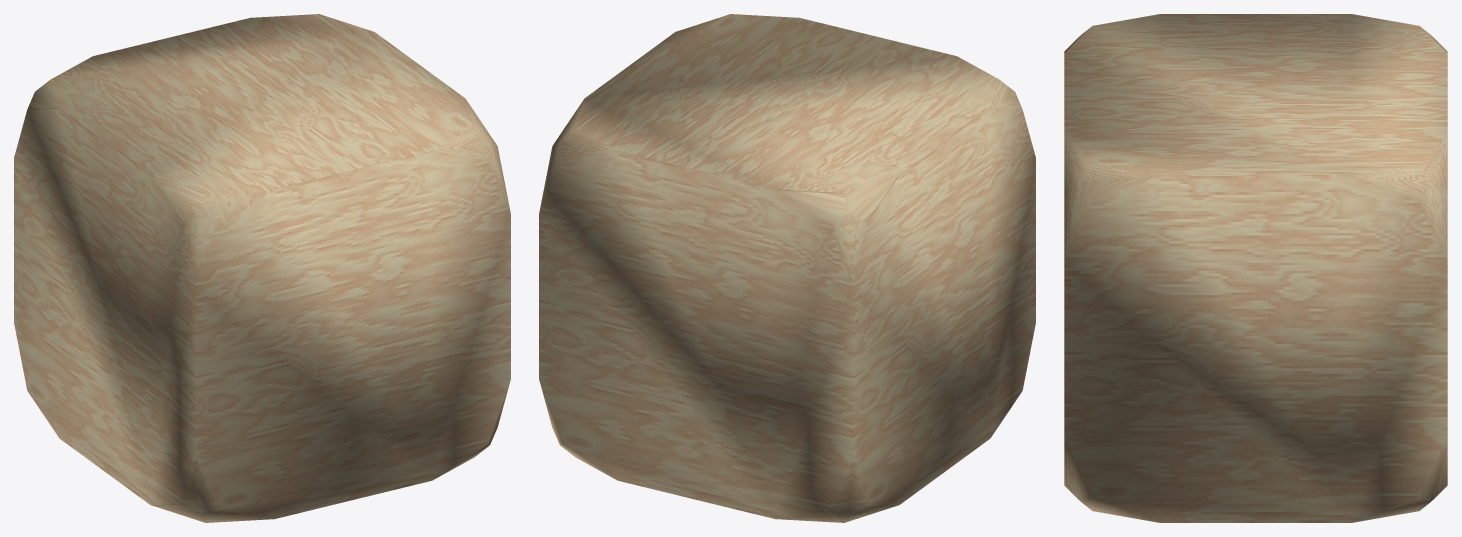
Rendered from BlockA.fbx.
3 views of the same model, side by side, from view 1: azimuth 30°, elevation 25°; view 2: azimuth 150°, elevation 25°; view 3: azimuth 270°, elevation 25° (orthographic). The views are drawn at different scales.
Visible parts, largest first — view 1: BlockA; view 2: BlockA; view 3: BlockA.
Boxes of the visible parts, x1=… form: BlockA: x1=14, y1=14, x2=510, y2=522; BlockA: x1=539, y1=14, x2=1035, y2=522; BlockA: x1=1064, y1=14, x2=1447, y2=522.
Bounding box in the file's own units: 1 × 1 × 1.
Materials: 1 (1 with a texture image).
